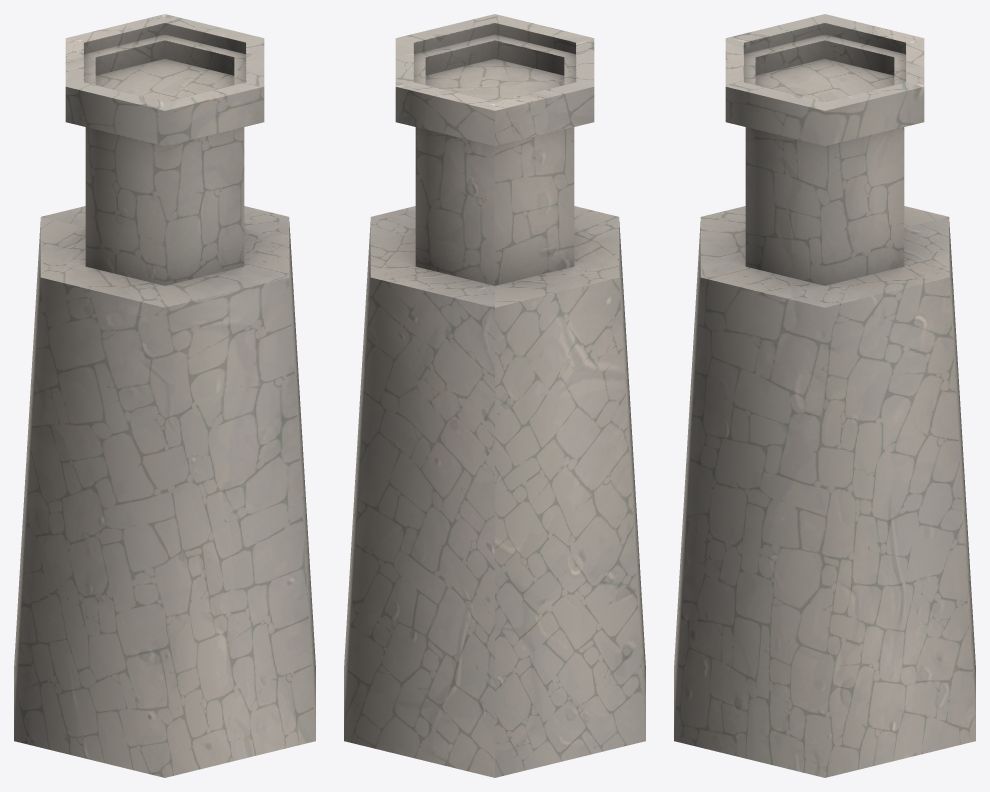
The model's file is Castillo_torre_grande.fbx.
The picture shows the model from 3 angles, left to right: view 1: azimuth 30°, elevation 25°; view 2: azimuth 150°, elevation 25°; view 3: azimuth 270°, elevation 25°; orthographic projection.
Visible parts, largest first — view 1: Obj_Torre_grande; view 2: Obj_Torre_grande; view 3: Obj_Torre_grande.
Part boxes in pixels (x1,y1,x2,y2): Obj_Torre_grande: [14, 14, 315, 777]; Obj_Torre_grande: [344, 14, 645, 777]; Obj_Torre_grande: [674, 14, 975, 777].
Size of the model in its own units: 1485 by 3017 by 1286.
